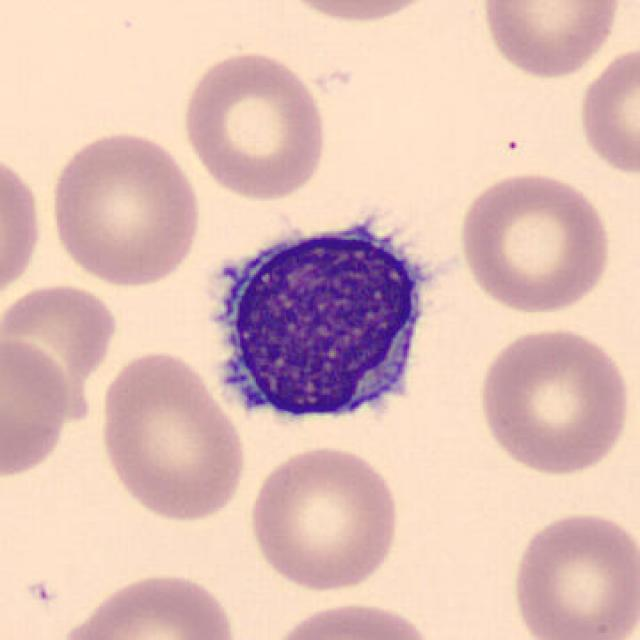Lymphocyte: (192, 199, 443, 443)
RBC: (94, 344, 249, 527), (45, 127, 206, 289), (473, 322, 633, 480), (244, 441, 406, 594), (453, 168, 615, 318), (178, 46, 330, 204), (0, 278, 123, 434), (507, 506, 638, 640), (53, 567, 241, 640), (476, 0, 624, 81), (0, 330, 75, 483), (574, 41, 638, 178), (0, 143, 46, 310), (261, 597, 439, 640), (272, 0, 443, 28)
